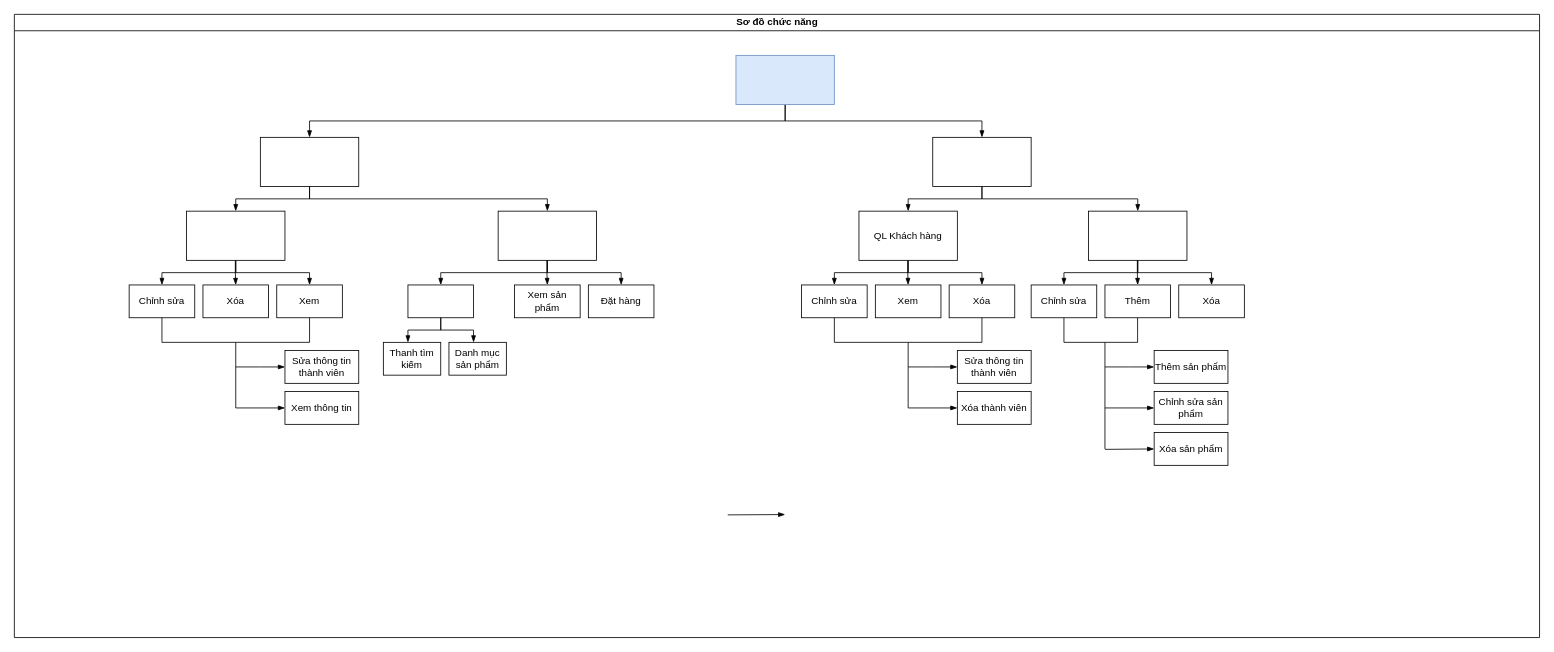
Some shapes in this 1554 by 652 pixel diagram are drawn without their labels. Each missing label, with the centre of its shape:
"Giao dịch" goes at (x=547, y=235).
"Khách hàng" goes at (x=309, y=162).
"QL Sản phẩm" goes at (x=1137, y=235).
"QL thông tin" goes at (x=235, y=235).
"Quản trị viên" goes at (x=981, y=162).
"Tìm kiếm sản phẩm" goes at (x=440, y=301).
"Web bán quần áo" goes at (x=784, y=80).
